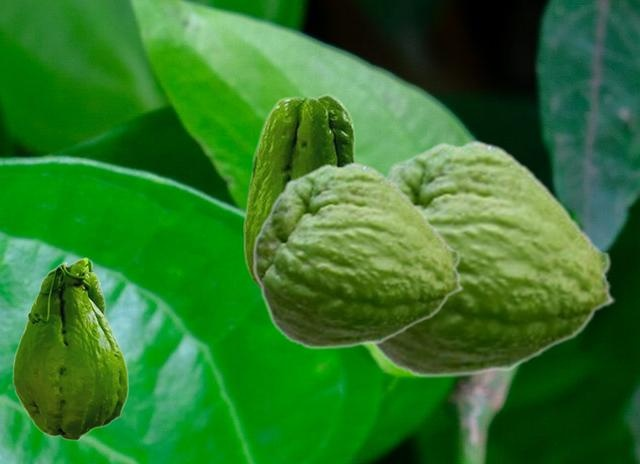sayote: (368, 139, 616, 378), (252, 161, 464, 349), (243, 93, 357, 289), (12, 257, 128, 440)
